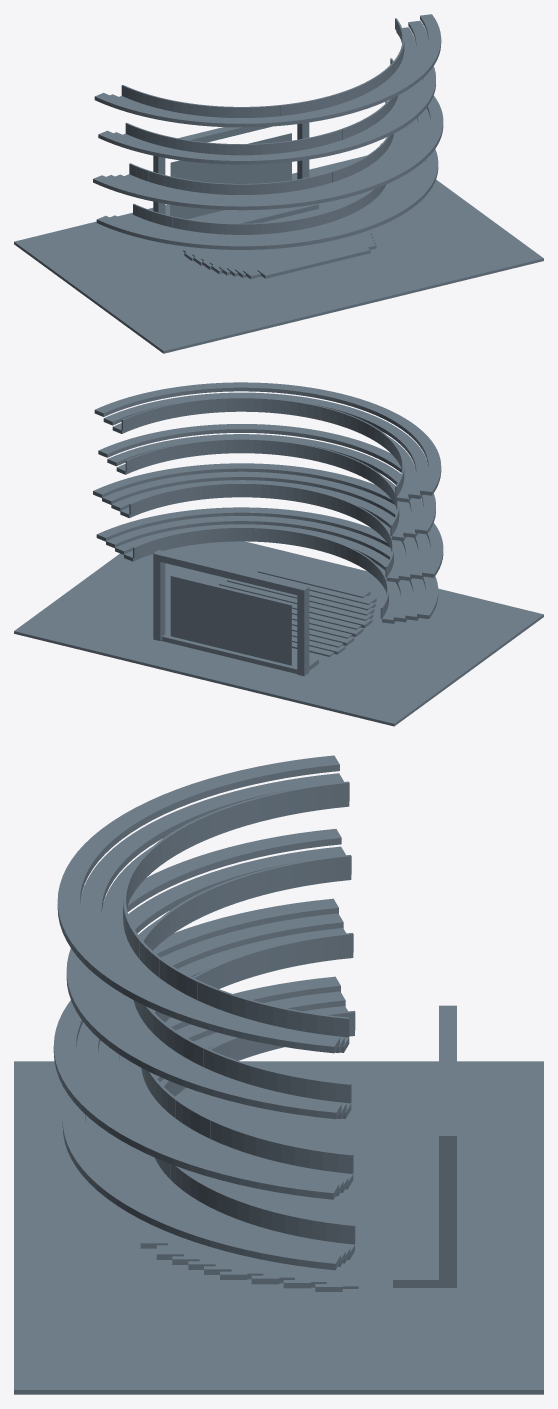
The model's file is venue.glb.
3 views of the same model, one above another, from view 1: azimuth 30°, elevation 25°; view 2: azimuth 150°, elevation 25°; view 3: azimuth 270°, elevation 25° (orthographic). The views are drawn at different scales.
Visible parts, largest first — view 1: Structure_0870, Structure_0001, Structure_0000, Structure_0079, Structure_0334, Structure_0068, Structure_0046, Structure_0057, Structure_0035, Structure_0223; view 2: Structure_0870, Structure_0001, Structure_0334, Structure_0000, Structure_0112, Structure_0223, Structure_0079, Structure_0035, Structure_0046, Structure_0024, Structure_0068; view 3: Structure_0870, Structure_0000, Structure_0223, Structure_0334, Structure_0445, Structure_0556, Structure_0002, Structure_0778, Structure_0024.
Boxes of the visible parts, x1,y1,x2,y2 form: Structure_0870: [14, 155, 543, 353]; Structure_0001: [170, 133, 291, 218]; Structure_0000: [192, 204, 318, 223]; Structure_0079: [257, 244, 370, 278]; Structure_0334: [178, 126, 272, 142]; Structure_0068: [243, 240, 376, 279]; Structure_0046: [227, 234, 374, 276]; Structure_0057: [235, 237, 375, 277]; Structure_0035: [219, 231, 373, 275]; Structure_0223: [297, 122, 309, 179]; Structure_0870: [14, 541, 543, 726]; Structure_0001: [170, 575, 291, 665]; Structure_0334: [153, 550, 309, 596]; Structure_0000: [161, 627, 318, 673]; Structure_0112: [297, 591, 309, 676]; Structure_0223: [153, 559, 165, 640]; Structure_0079: [257, 565, 370, 597]; Structure_0035: [219, 578, 373, 620]; Structure_0046: [227, 579, 374, 615]; Structure_0024: [214, 582, 372, 627]; Structure_0068: [246, 567, 376, 604]; Structure_0870: [14, 1061, 543, 1394]; Structure_0000: [393, 1155, 438, 1287]; Structure_0223: [439, 1144, 456, 1287]; Structure_0334: [439, 1005, 456, 1147]; Structure_0445: [342, 1159, 358, 1288]; Structure_0556: [315, 1192, 342, 1291]; Structure_0002: [251, 1190, 279, 1284]; Structure_0778: [283, 1195, 310, 1288]; Structure_0024: [220, 1183, 247, 1279].
Size of the model in its own units: 30.36 by 14.22 by 20.69.
